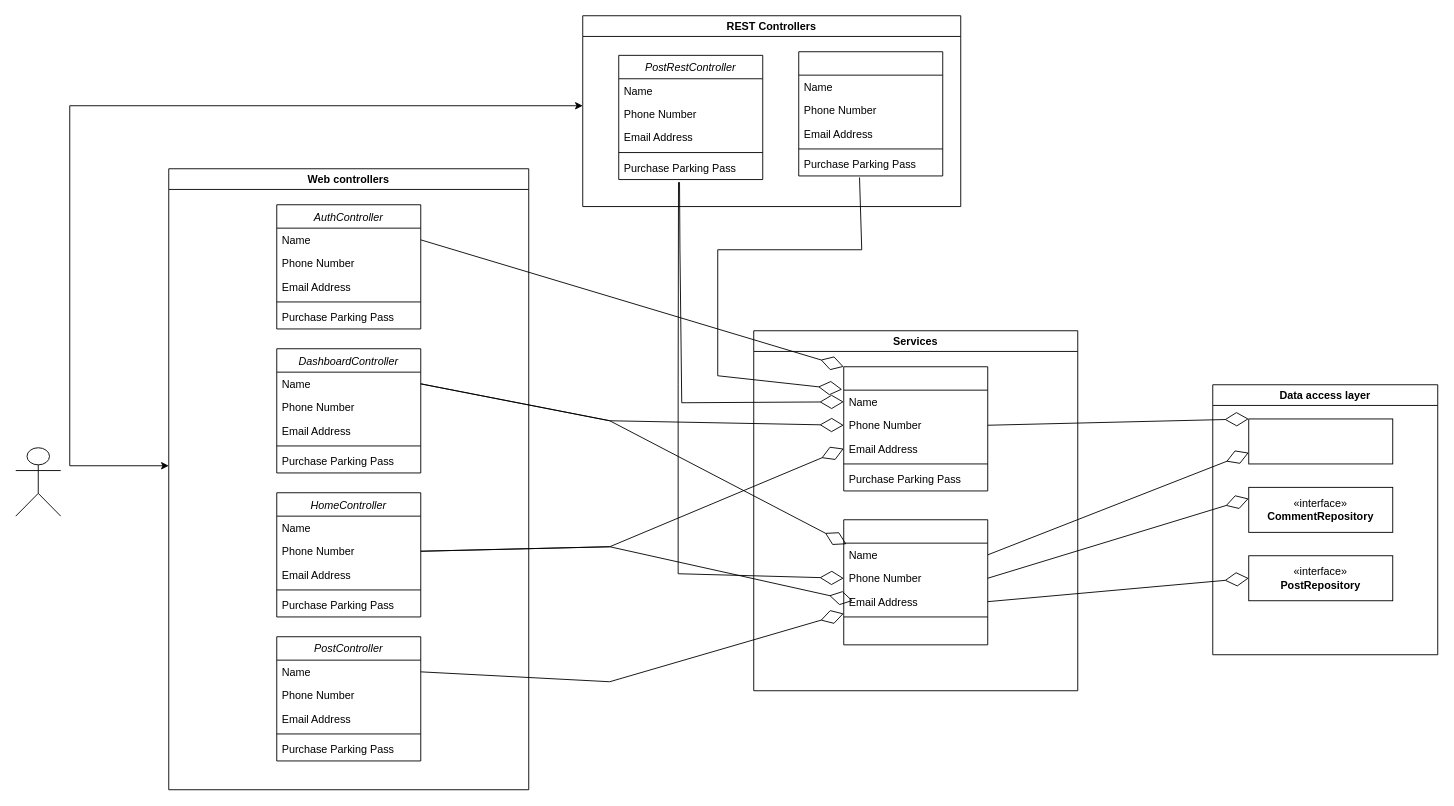
This 1454x806 diagram has some shape labels left out. Here are the shapes that lost their labels. From the top down, the box of each, then its label:
(798, 51, 943, 176): UserRestController
(843, 366, 988, 491): UserService
(1248, 418, 1393, 464): «interface» UserRepository
(15, 447, 61, 516): Actor
(843, 519, 988, 645): PostService
